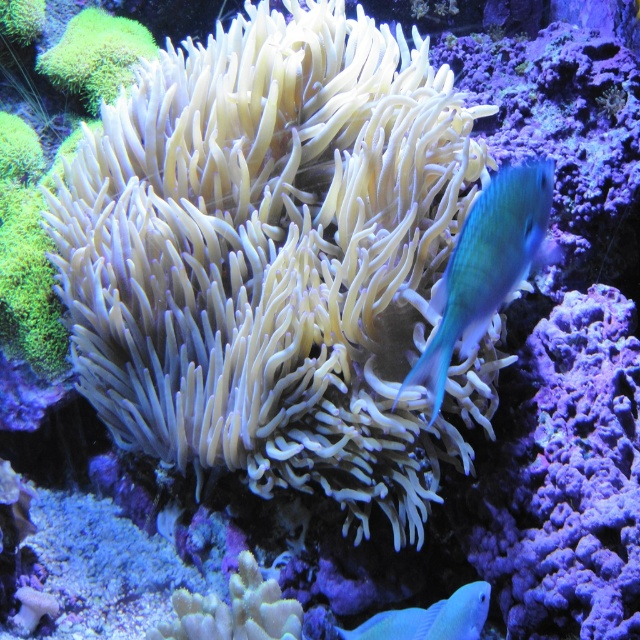Fish: (391, 155, 555, 433), (335, 580, 491, 638)
